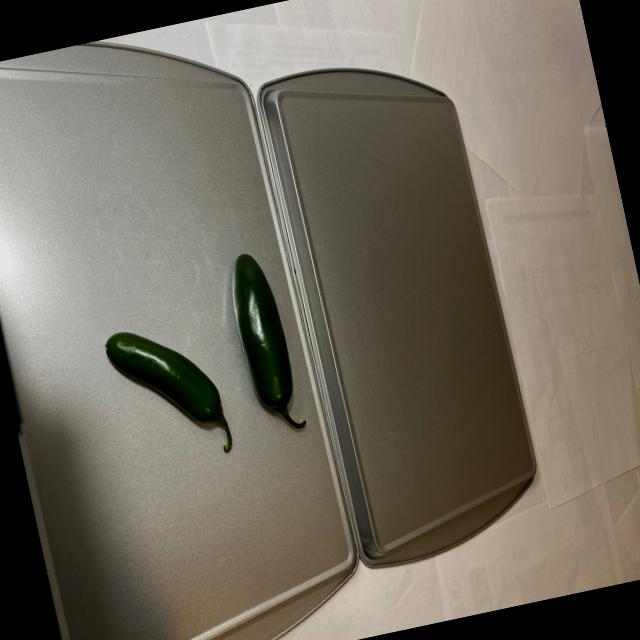chilli: (88, 245, 308, 484)
